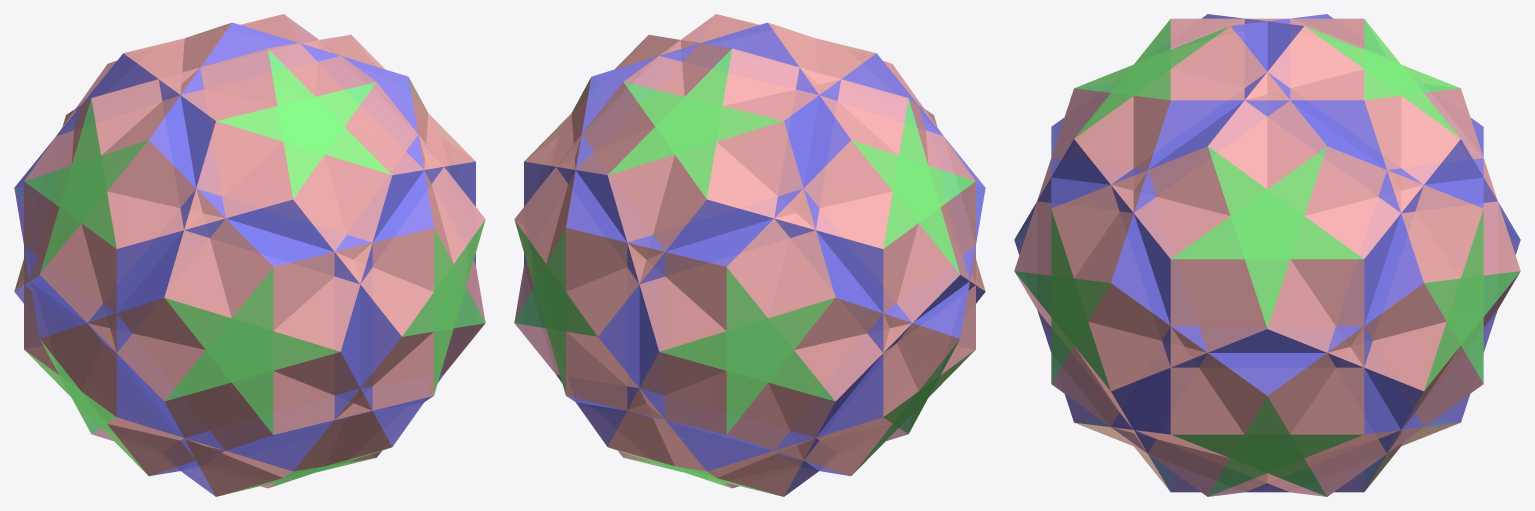
Rendered from Rhombidodecadodecahedron.obj.
The picture shows the model from 3 angles, left to right: view 1: azimuth 30°, elevation 25°; view 2: azimuth 150°, elevation 25°; view 3: azimuth 270°, elevation 25°; orthographic projection. The views are drawn at different scales.
Size of the model in its own units: 2.62 by 2.62 by 2.62.
